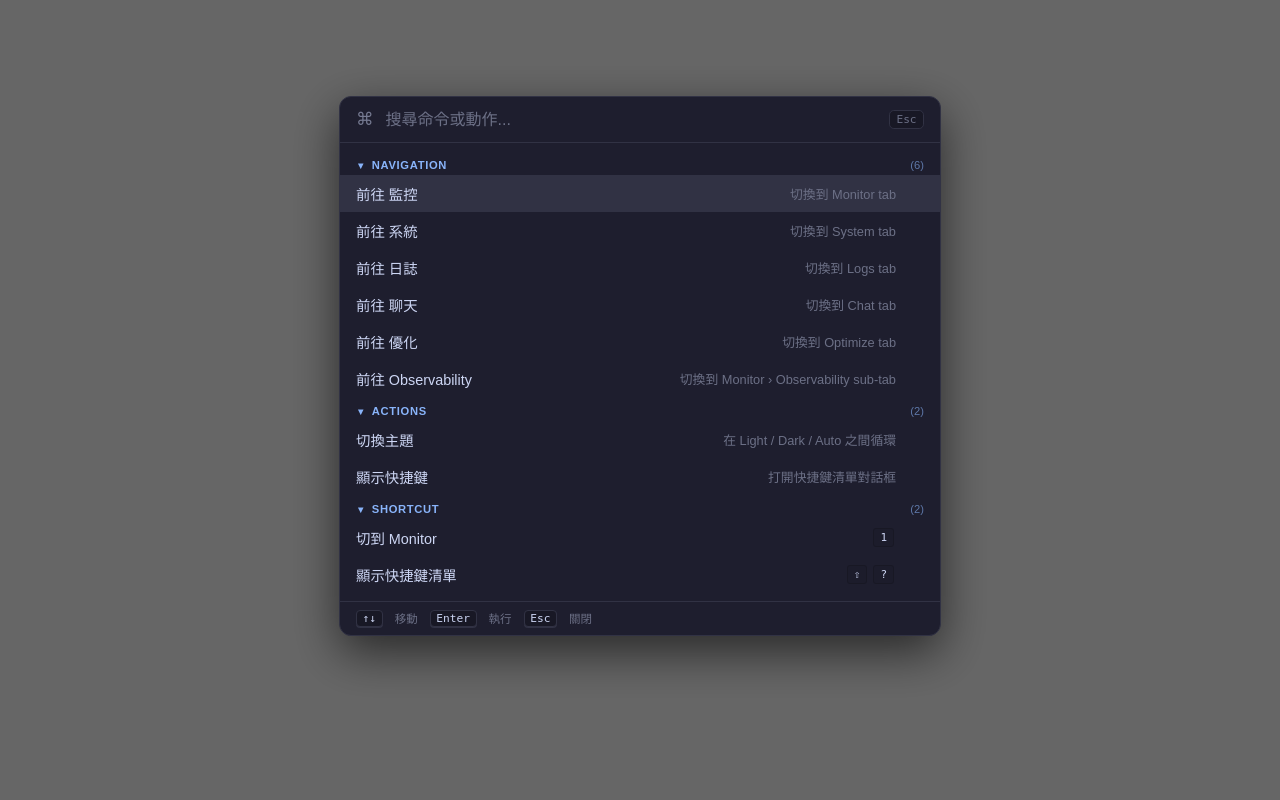
it: CommandPalette › shows empty message when no commands match query
In the field with class "cp-input": point(631, 120) [384, 110, 879, 130], type "xyznonexistent"
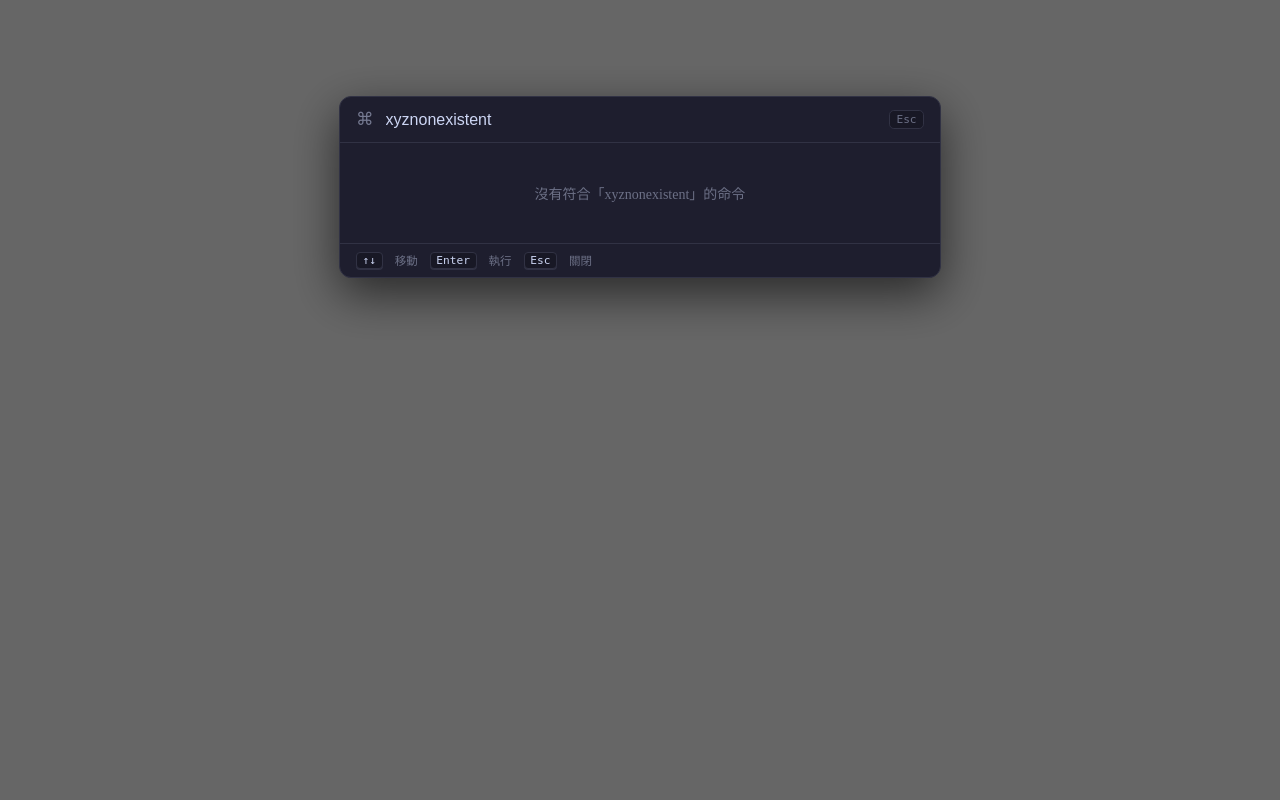
Expected: the text with class "cp-empty" shows "xyznonexistent", [535, 187, 745, 202]
